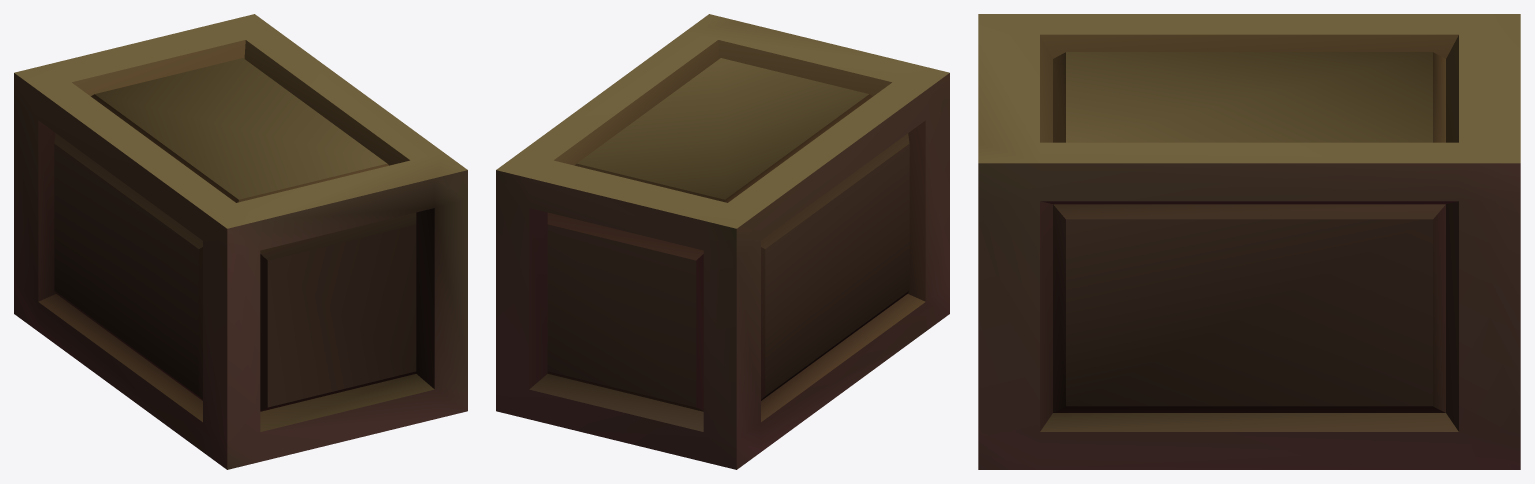
Rendered from large_crate.FBX.
3 renders of one model, left to right at view 1: azimuth 30°, elevation 25°; view 2: azimuth 150°, elevation 25°; view 3: azimuth 270°, elevation 25°, orthographic. The views are drawn at different scales.
Parts seen in each view (by area): view 1: large crate; view 2: large crate; view 3: large crate.
Boxes of the visible parts, left/top/right/bottom form: large crate: left=14, top=14, right=467, bottom=469; large crate: left=496, top=14, right=949, bottom=469; large crate: left=978, top=14, right=1520, bottom=469.
Bounding box in the file's own units: 1.32 × 1.26 × 2.03.
